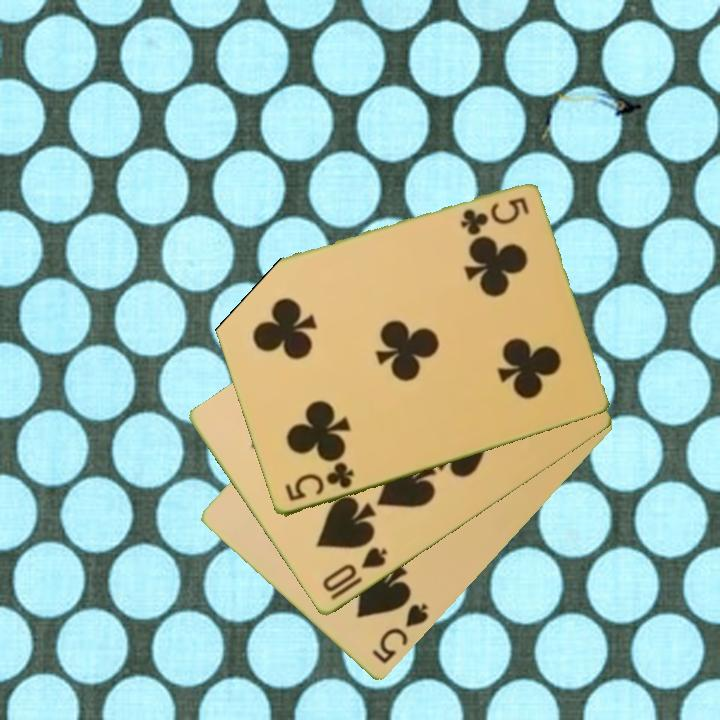10s: (318, 543, 391, 604)
5c: (281, 459, 357, 505), (456, 194, 532, 237)
5s: (368, 600, 432, 668)
